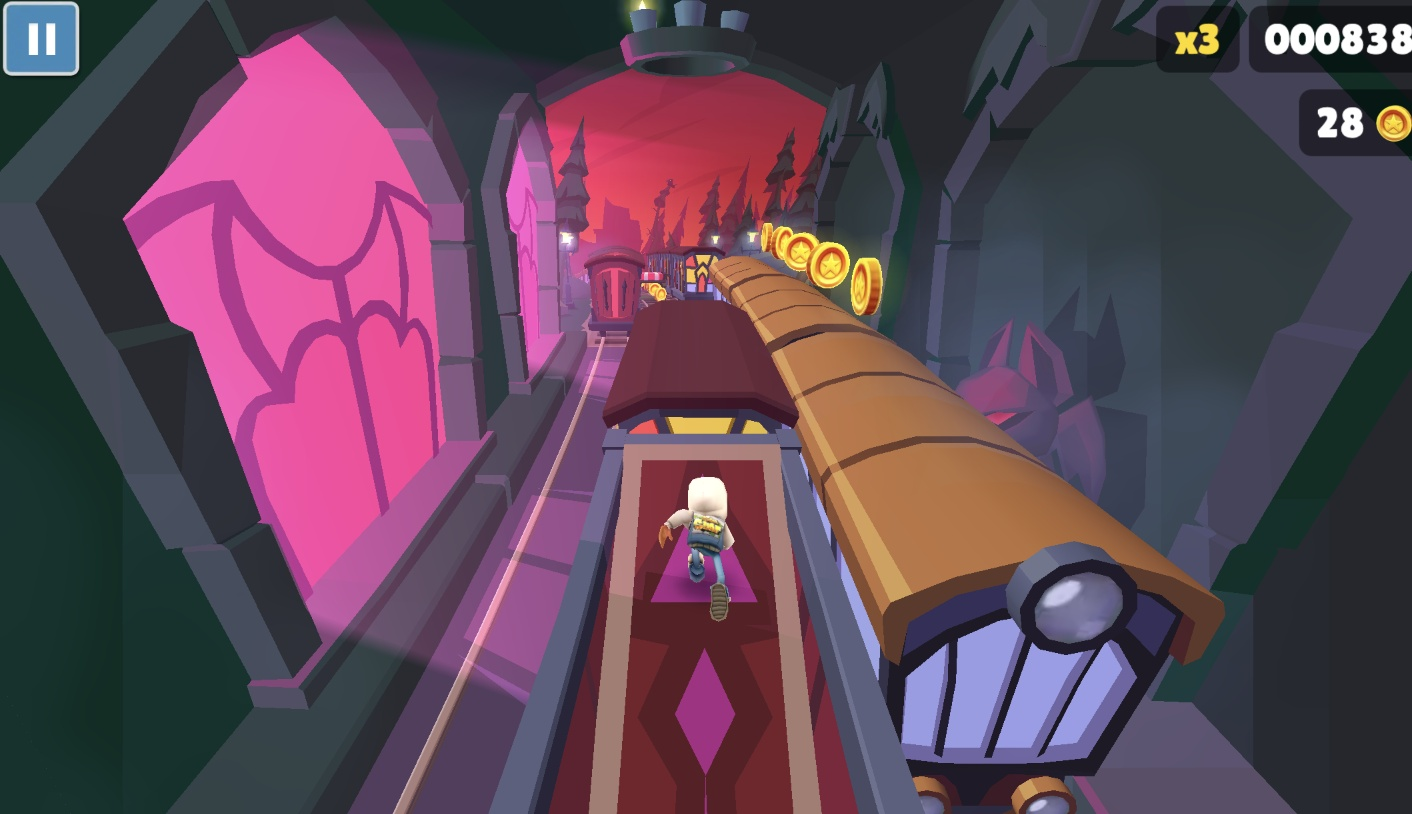ground_barrier: (639, 274, 666, 298)
train: (409, 300, 1003, 814), (712, 256, 1246, 784), (584, 252, 643, 337), (641, 247, 719, 304)
